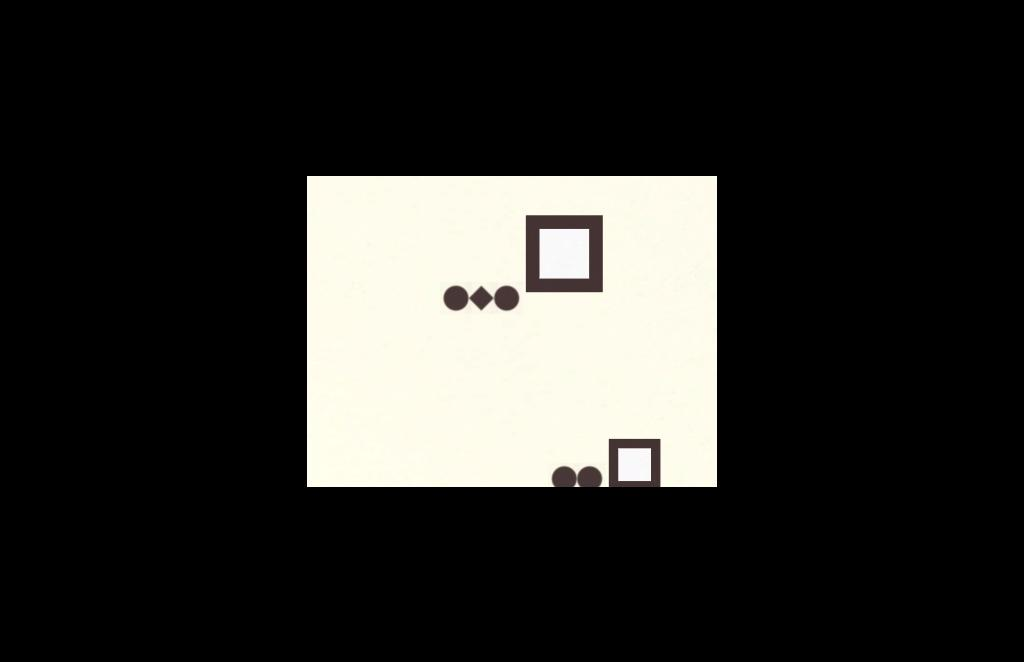unconnected_station: (489, 205, 620, 322), (596, 432, 677, 486)
